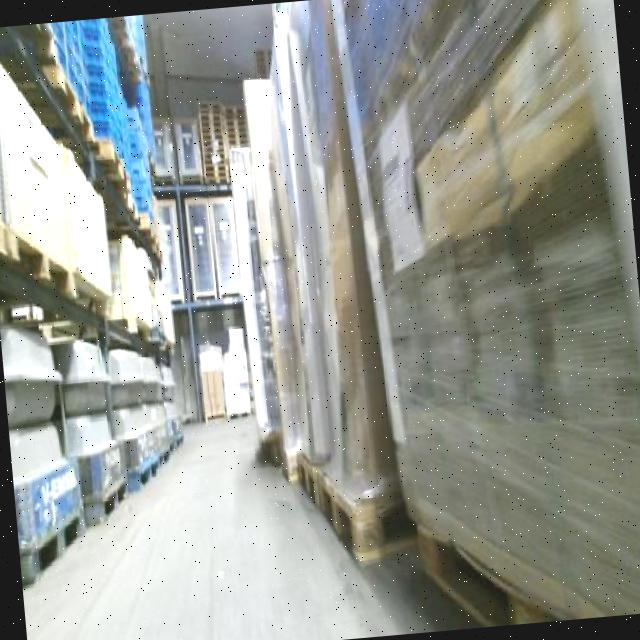pallet: (316, 463, 414, 572), (17, 506, 97, 592), (5, 220, 80, 308), (87, 474, 139, 537), (130, 450, 168, 500), (225, 408, 252, 428), (194, 112, 226, 126)
